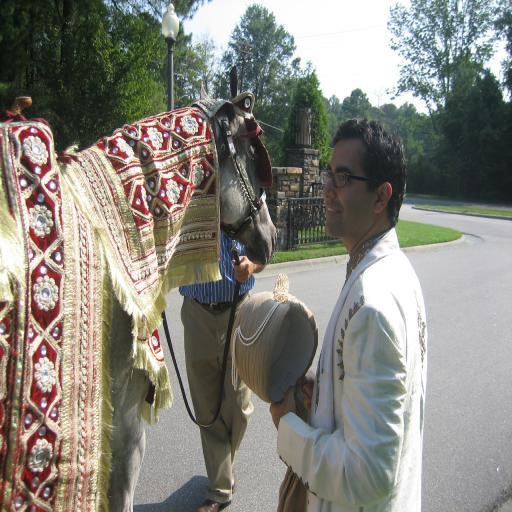Horse: (109, 64, 280, 512)
